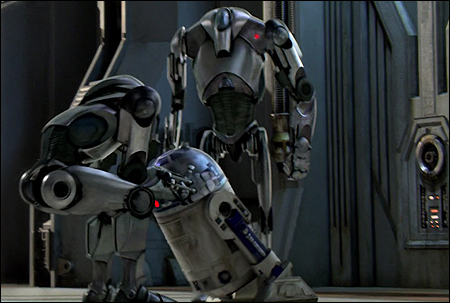r2d2: (147, 141, 320, 303)
